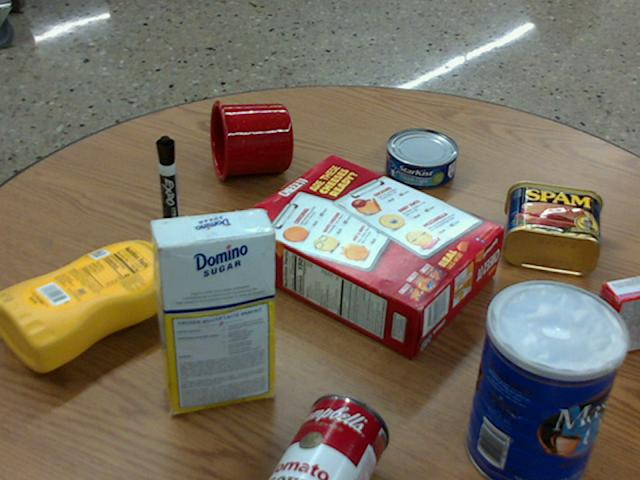cracker_box: (236, 154, 501, 353)
gelatin_box: (586, 275, 639, 356)
large_marker: (156, 135, 180, 239)
master_chef_can: (465, 280, 626, 479)
mug: (209, 100, 293, 180)
mustard_bottle: (0, 239, 194, 371)
potted_meat_can: (504, 179, 602, 275)
sugar_box: (149, 209, 273, 412)
tomato_soup_can: (269, 393, 389, 479)
tuna_fish_can: (386, 128, 458, 187)
